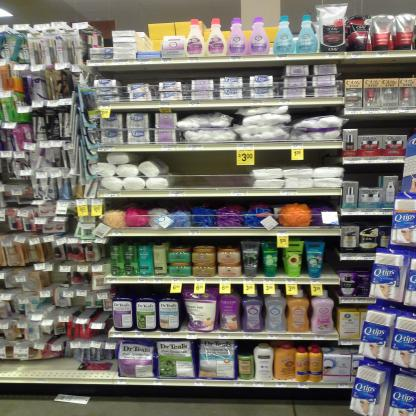Void: (122, 65, 274, 78), (185, 164, 250, 188), (357, 118, 406, 134), (113, 284, 174, 296), (351, 64, 409, 76), (354, 166, 382, 185), (325, 240, 339, 274)
